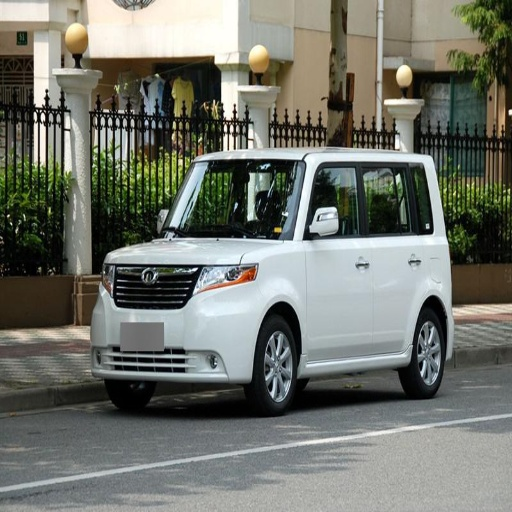front_bumper: (89, 265, 264, 389)
front_glass: (167, 164, 304, 235)
front_left_door: (303, 161, 372, 358)
